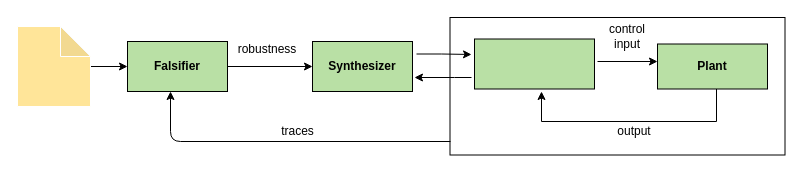
The diagram is 803 pixels wide and 173 high, and some of its shapes have lost their labels. Each missing label, with the centre of its shape:
"Controller" goes at (x=534, y=63).
"HyperSTL" goes at (x=53, y=66).
